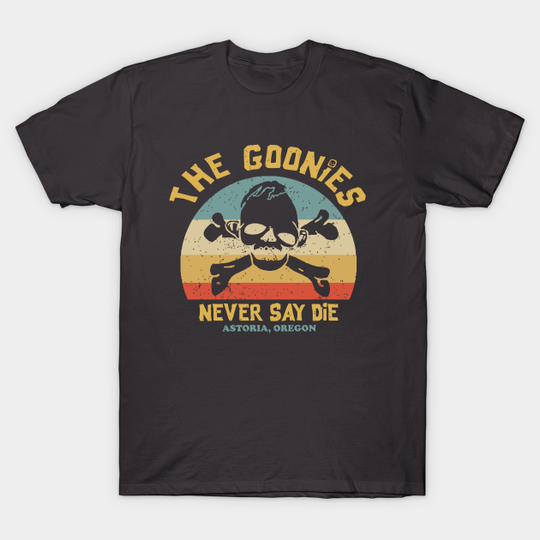design: (166, 140, 369, 333)
